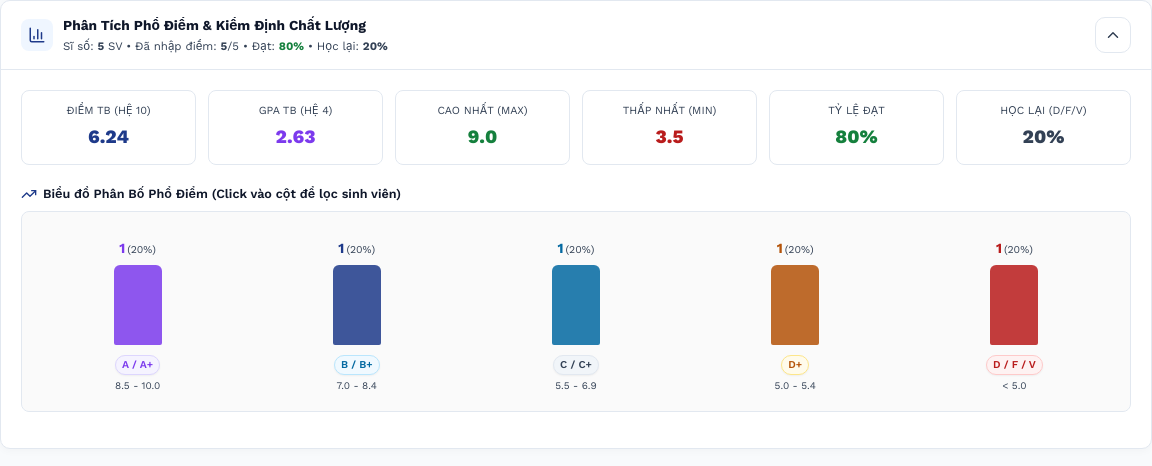
Test: GradeAnalyticsCard Component › toggles collapsible body when clicking on header
Expected: the text "Biểu đồ Phân Bố Phổ Điểm (Click vào cột để lọc sinh viên)" is shown, [43,184,401,203]
Click header to collapse
Click the text "Phân Tích Phổ Điểm & Kiểm Định Chất Lượng": [214, 25] box [63,15,366,36]
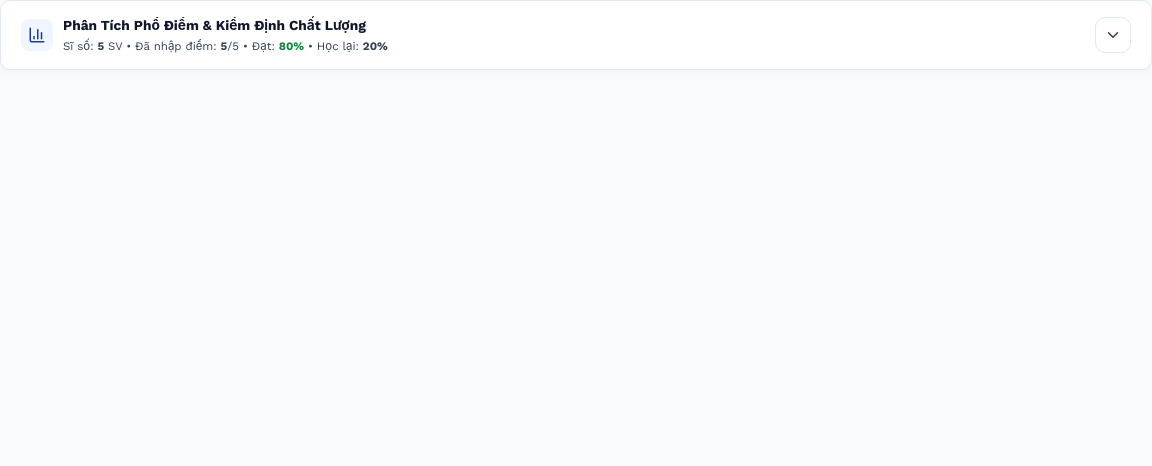
Result: the text "Biểu đồ Phân Bố Phổ Điểm (Click vào cột để lọc sinh viên)" is gone
